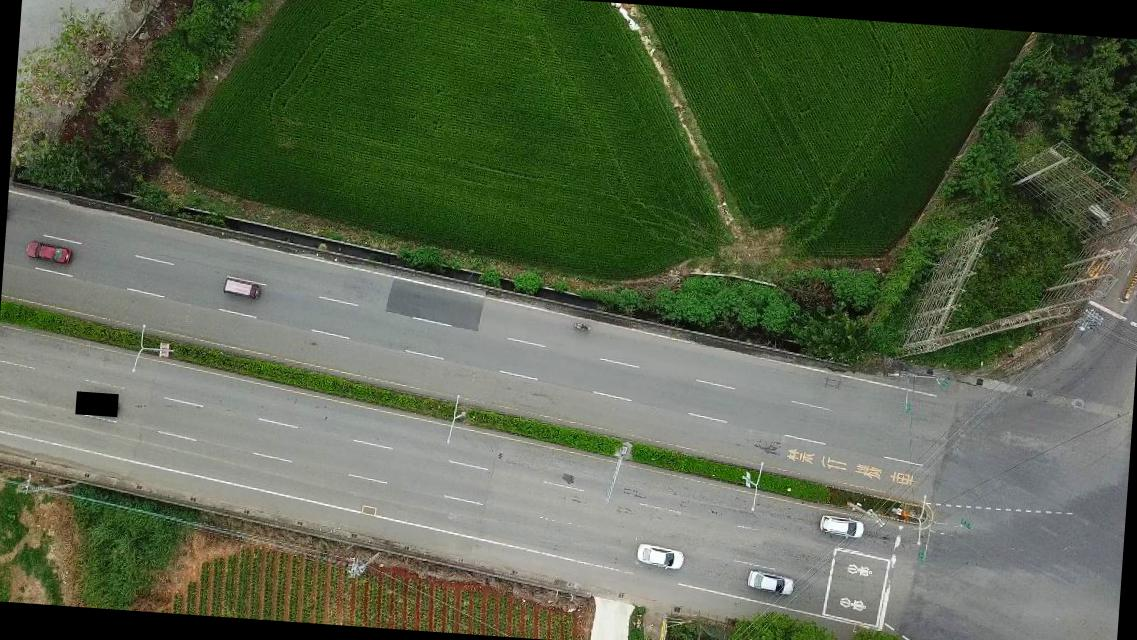vehicle: (634, 542, 684, 572), (746, 569, 794, 595), (818, 513, 864, 540), (23, 241, 71, 262), (220, 276, 261, 300)
